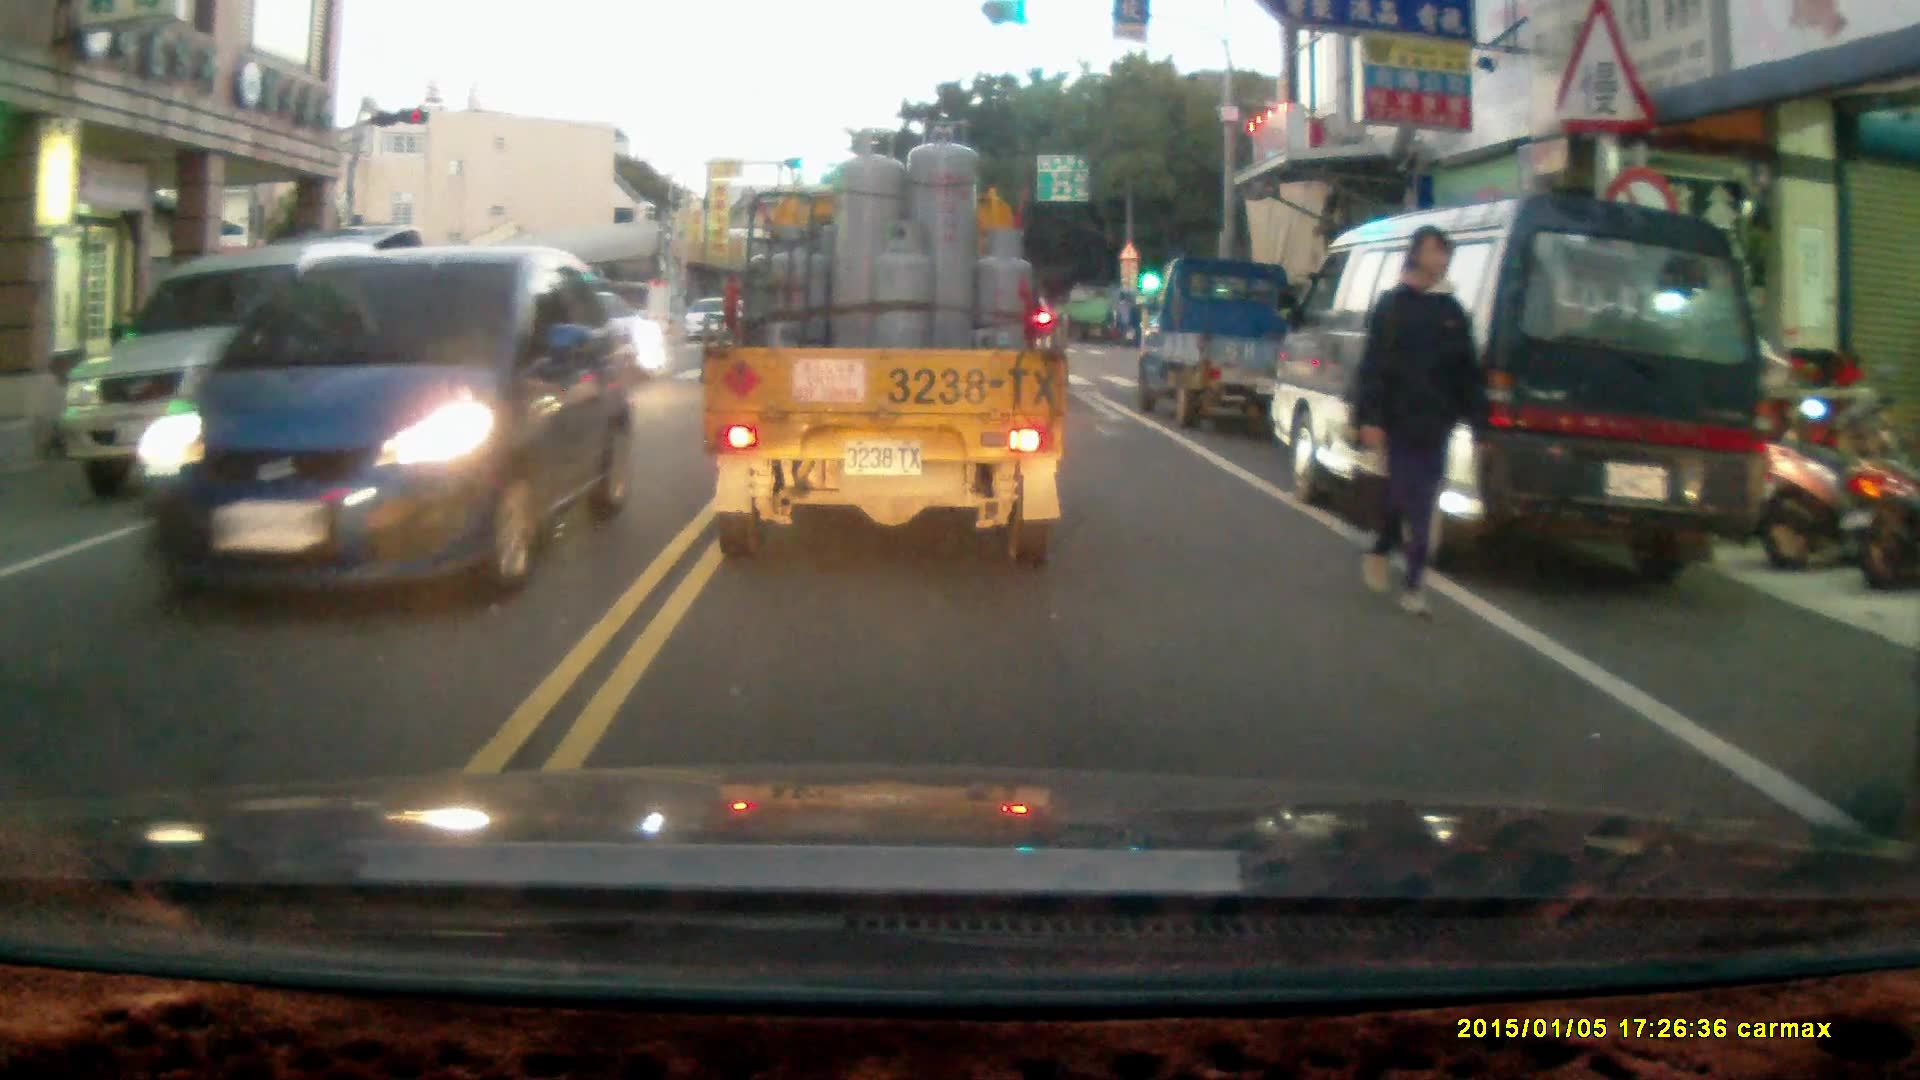pedestrian: (1351, 227, 1483, 621)
vehicle: (1274, 190, 1768, 587), (151, 241, 623, 616), (700, 122, 1067, 559), (294, 295, 535, 430), (1125, 246, 1297, 420)
